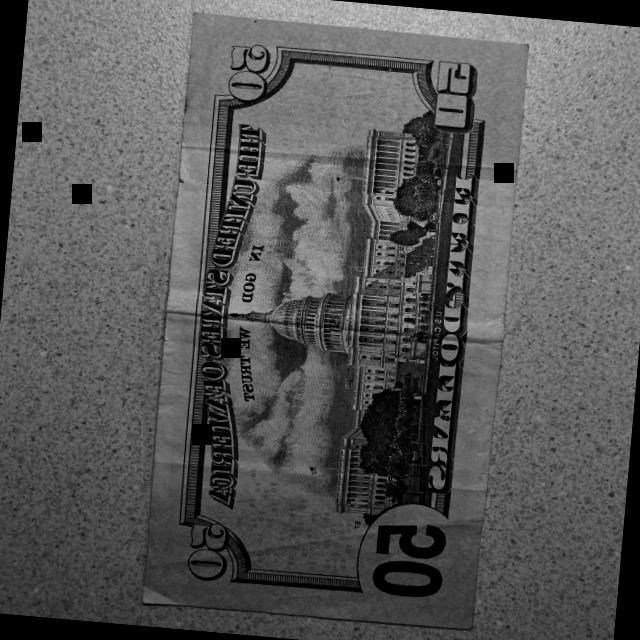fifty: (138, 11, 530, 634)
